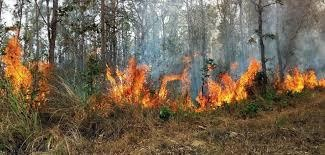fire: (101, 49, 262, 112), (0, 31, 53, 106), (190, 57, 260, 111), (273, 63, 324, 94)
